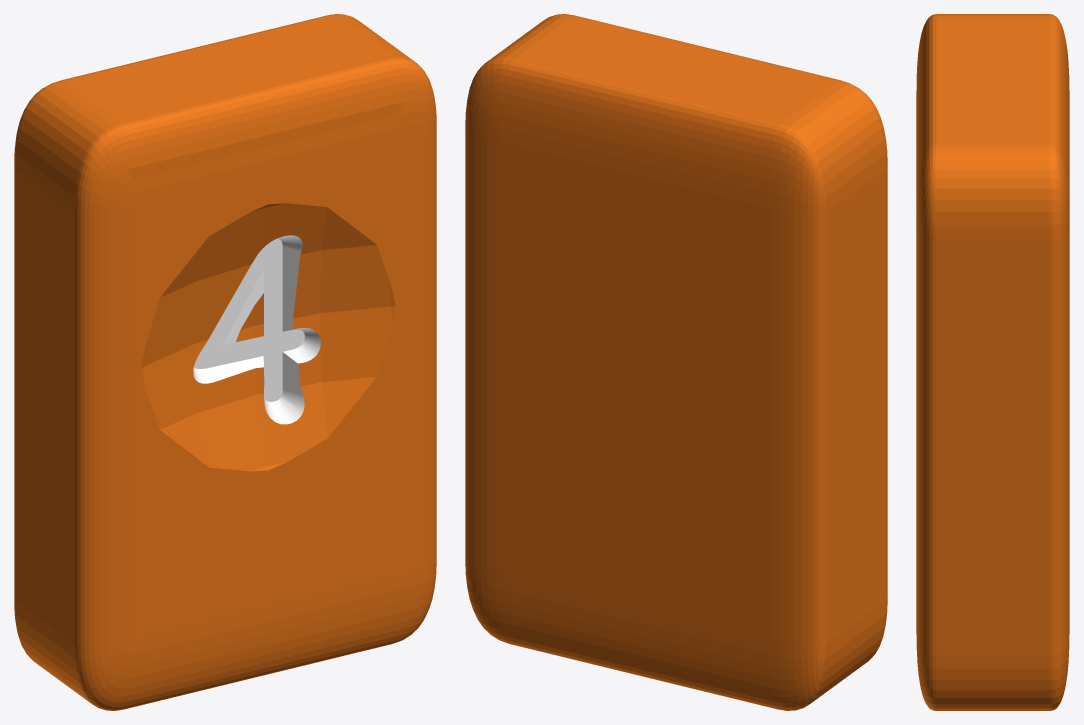
File: Rummikub Card 4.FBX
3 renders of one model, left to right at view 1: azimuth 30°, elevation 25°; view 2: azimuth 150°, elevation 25°; view 3: azimuth 270°, elevation 25°, orthographic. The views are drawn at different scales.
Parts seen in each view (by area): view 1: CardModel; view 2: CardModel; view 3: CardModel.
Part boxes in pixels (<box>): CardModel: <box>14,14,436,710</box>; CardModel: <box>465,14,887,710</box>; CardModel: <box>916,14,1069,710</box>.
Bounding box in the file's own units: 44.87 × 69.66 × 17.19.
